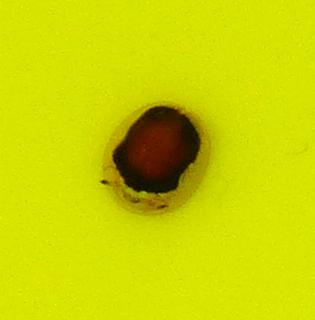Coleoptera: (100, 100, 215, 220)
